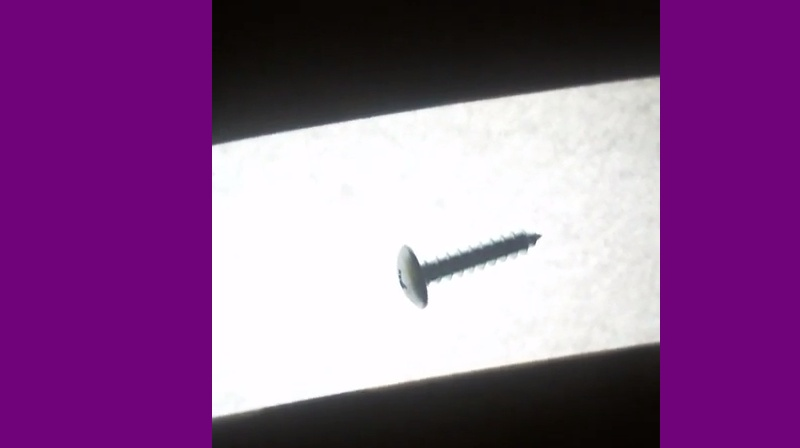S003: (389, 230, 542, 311)
